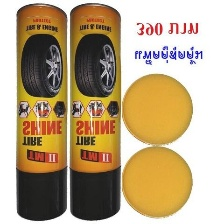aerosol_cans: (10, 1, 70, 223), (67, 1, 125, 223)
